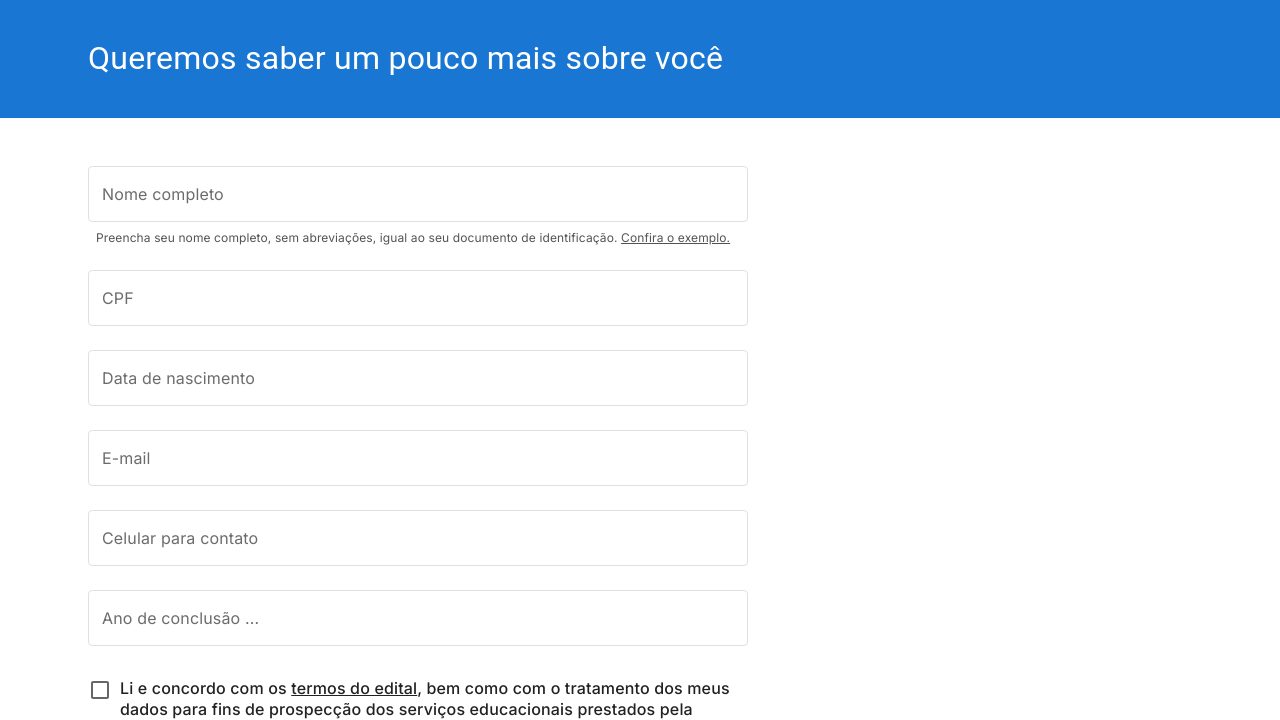
Scenario: EnrollmentForm Validation Tests › deve desabilitar o botão de enviar quando os campos estiverem em branco ou inválidos
Type "emailinvalido" into the field with placeholder "E-mail".
click(418, 458); type("emailinvalido")  # box [88,430,748,486]
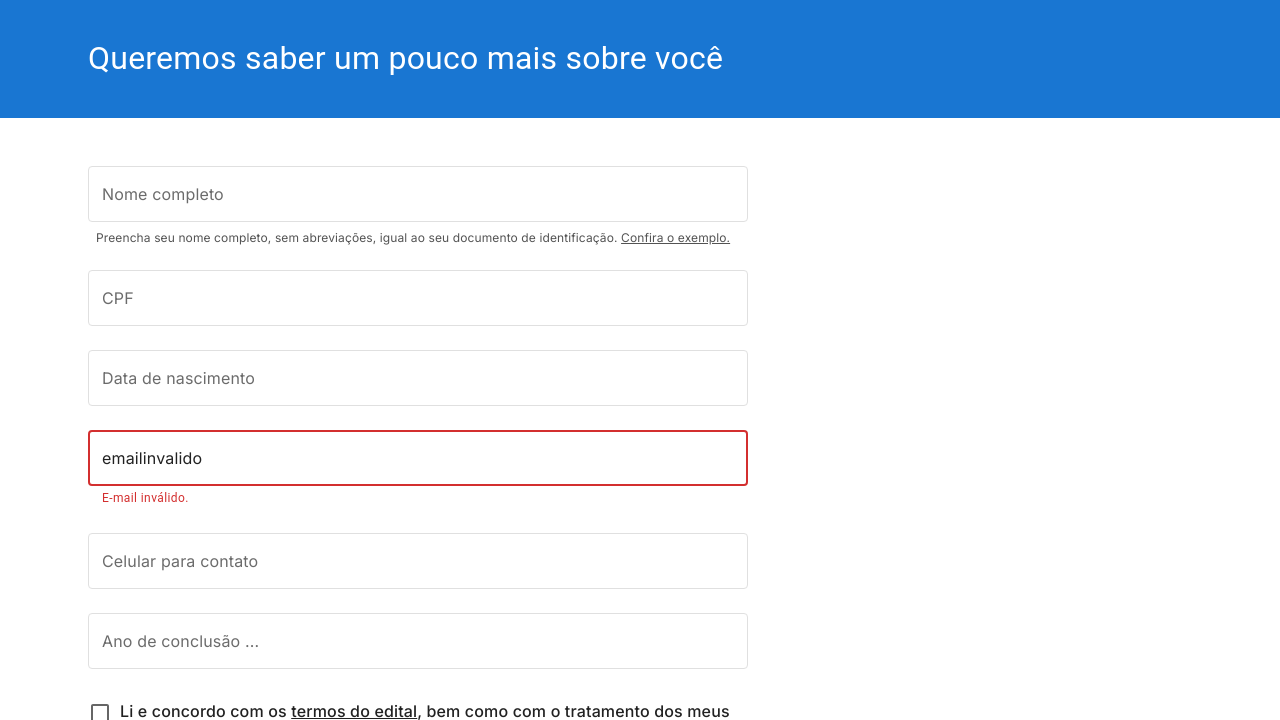
Expected: the text "E-mail inválido." is shown, [102,491,189,505]
